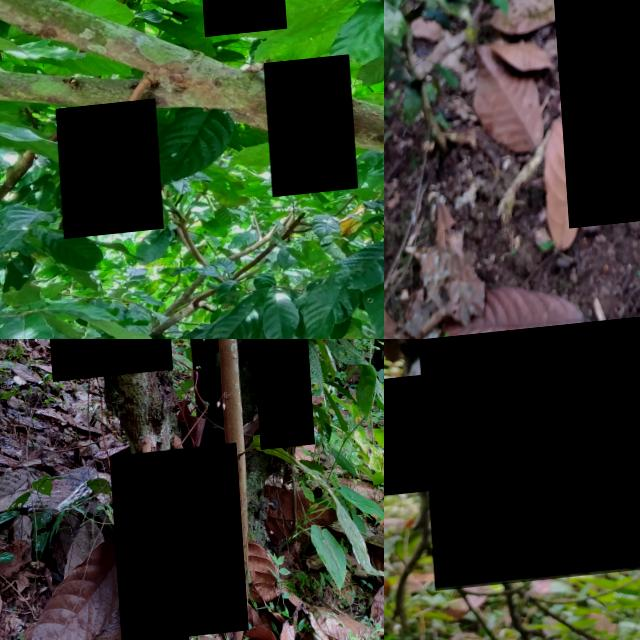Fitoftora: (536, 0, 640, 233), (52, 104, 158, 242), (103, 455, 180, 640), (261, 64, 352, 205), (194, 0, 284, 43)
Monilia: (409, 339, 640, 595)
Sana: (161, 450, 240, 640), (247, 339, 308, 458), (384, 379, 428, 501)
